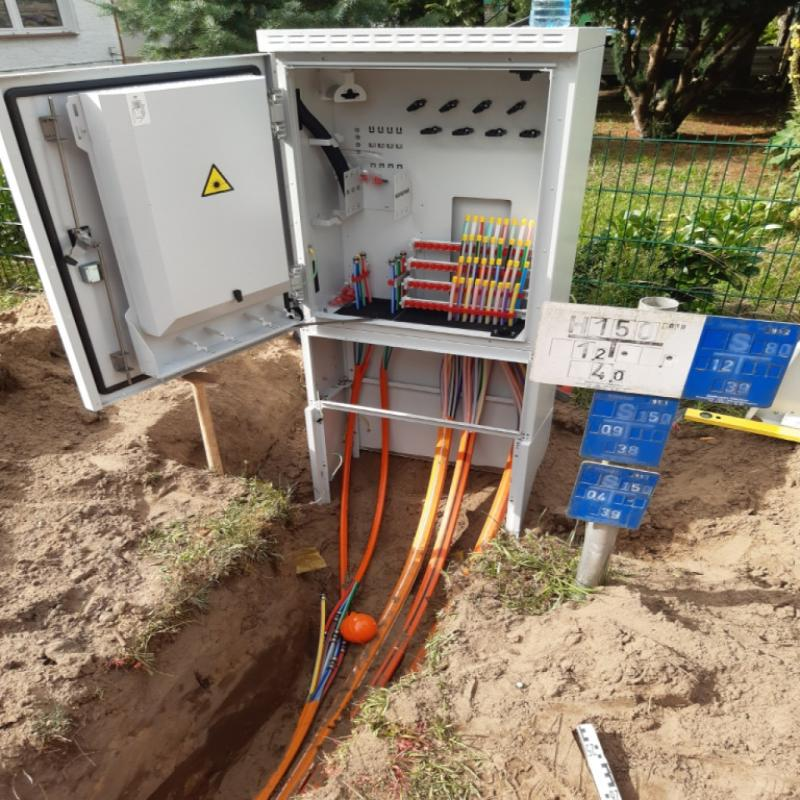Kugelmarker: (341, 613, 375, 643)
NT-Gehause: (0, 27, 603, 440)
Orang-Speednetrohrchen: (278, 431, 452, 800), (372, 432, 476, 686), (255, 606, 346, 800)
